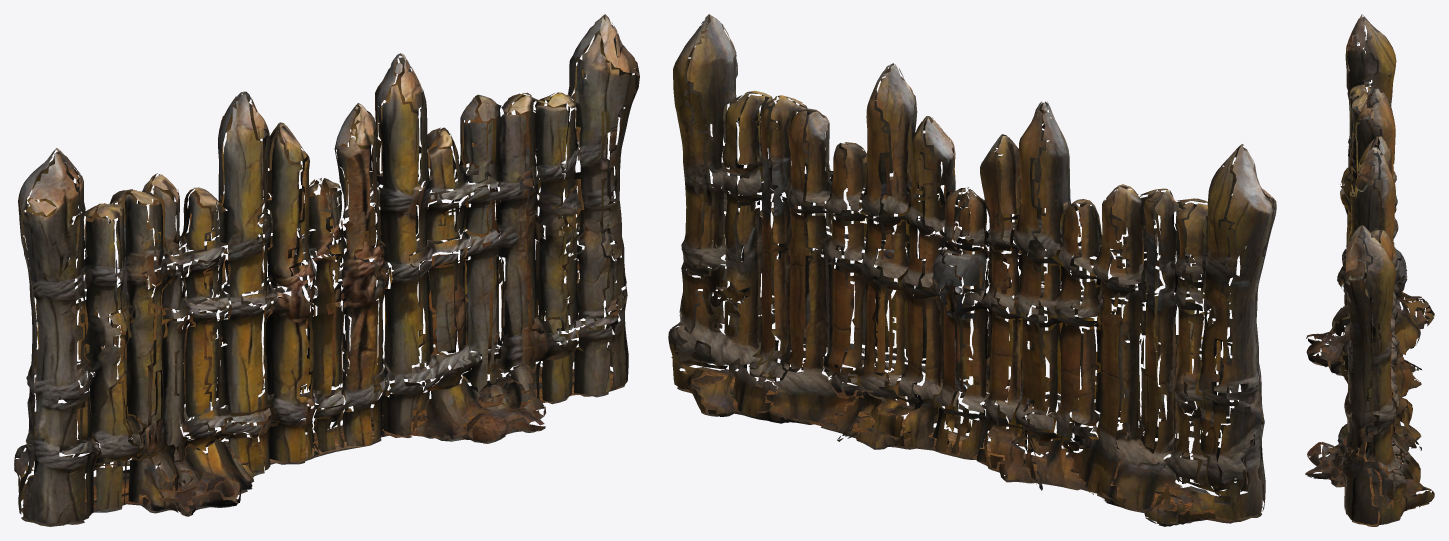
The model's file is zaun_knochen.glb.
3 views of the same model, side by side, from view 1: azimuth 30°, elevation 25°; view 2: azimuth 150°, elevation 25°; view 3: azimuth 270°, elevation 25° (orthographic). The views are drawn at different scales.
Size of the model in its own units: 2 by 1.17 by 0.4644.
Materials: 1 (1 with a texture image).
